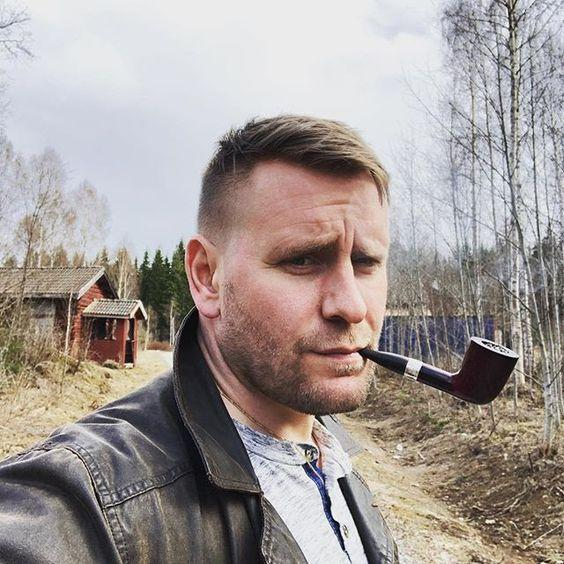trubka: (361, 337, 517, 404)
